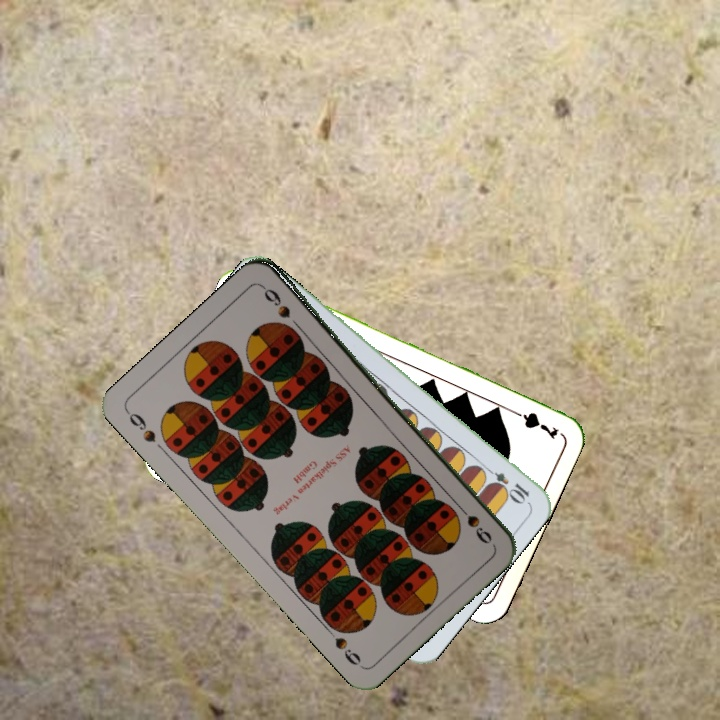E10: (479, 462, 532, 505)
G7: (505, 404, 562, 442)
S9: (451, 498, 495, 546), (122, 407, 159, 445)
